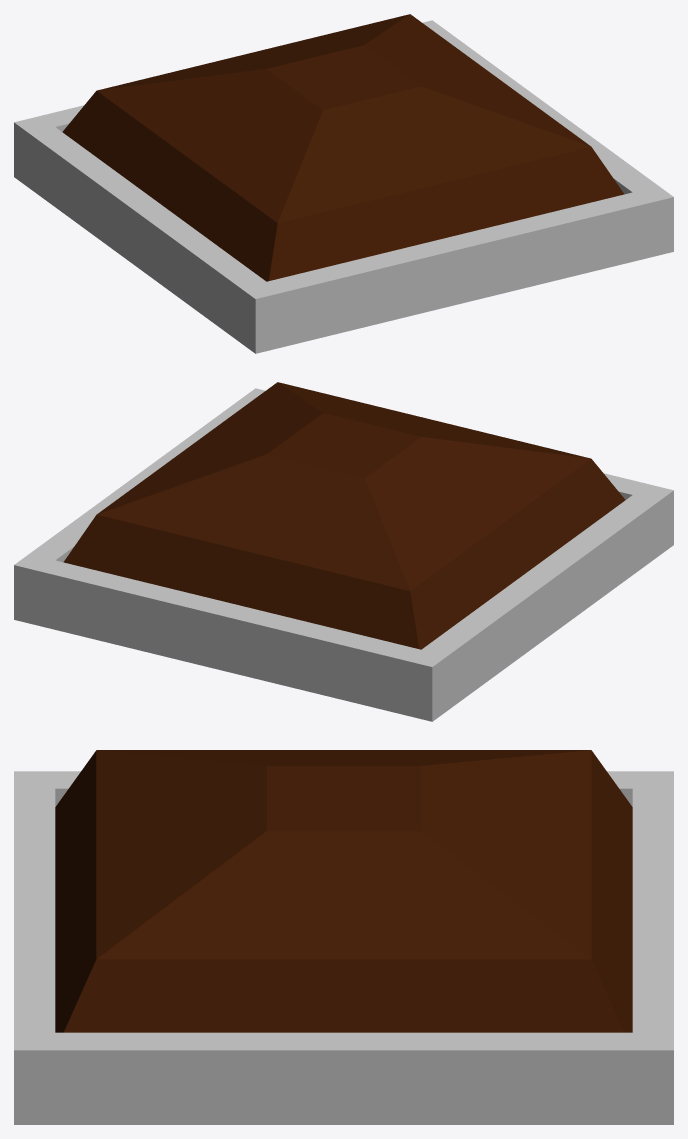
File: compost.obj
3 views of the same model, one above another, from view 1: azimuth 30°, elevation 25°; view 2: azimuth 150°, elevation 25°; view 3: azimuth 270°, elevation 25° (orthographic). The views are drawn at different scales.
Parts seen in each view (by area): view 1: compost_back; view 2: compost_back; view 3: compost_back.
Part boxes in pixels (bbox=[...]): compost_back: bbox=[14, 14, 673, 353]; compost_back: bbox=[14, 382, 673, 721]; compost_back: bbox=[14, 750, 673, 1124].
Bounding box in the file's own units: 2.56 × 0.8 × 2.56.
